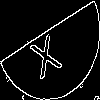X: (25, 25, 63, 80)
